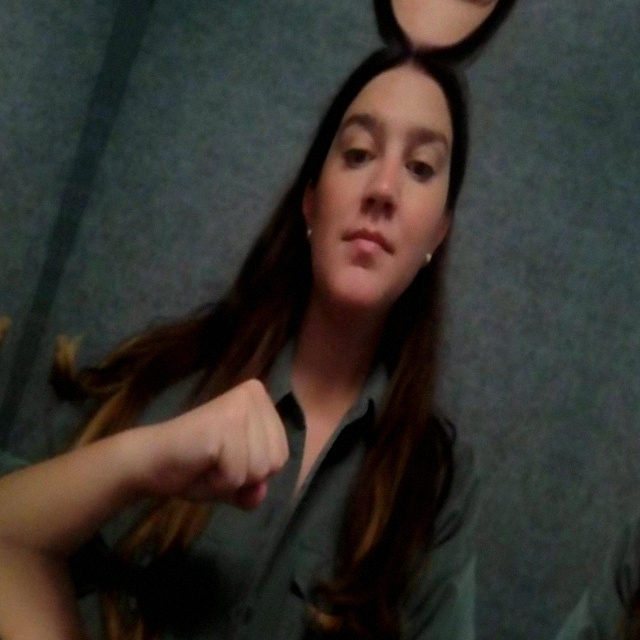Rock: (130, 341, 327, 549)
